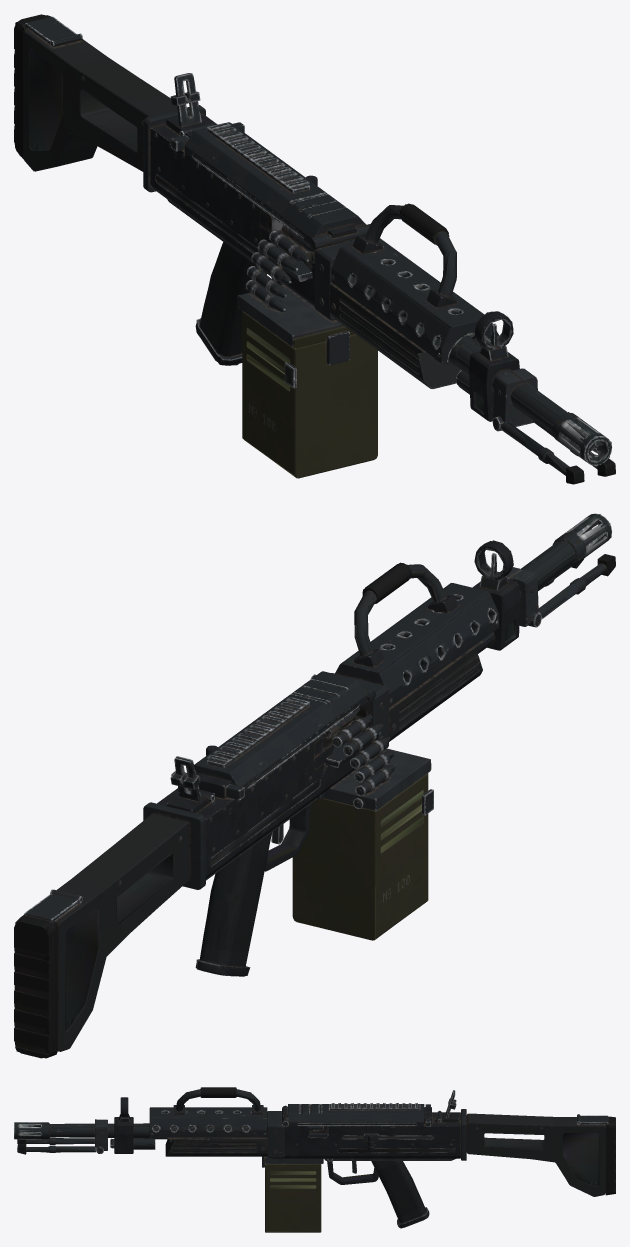
The picture shows the model from 3 angles, top to bottom: view 1: azimuth 30°, elevation 25°; view 2: azimuth 150°, elevation 25°; view 3: azimuth 270°, elevation 25°; orthographic projection. The views are drawn at different scales.
Parts seen in each view (by area): view 1: n9, n9_mag, n9_w; view 2: n9, n9_w, n9_mag; view 3: n9, n9_w, n9_mag.
Part boxes in pixels (x1,y1,x2,y2): n9: (14,14,615,484); n9_mag: (242,231,377,478); n9_w: (14,15,615,483); n9: (14,513,615,1058); n9_w: (14,514,615,1058); n9_mag: (292,716,433,940); n9: (14,1087,615,1228); n9_w: (14,1089,615,1231); n9_mag: (262,1156,321,1232).
Size of the model in its own units: 0.1192 by 0.2509 by 0.936.
Materials: 2 (2 with a texture image).
